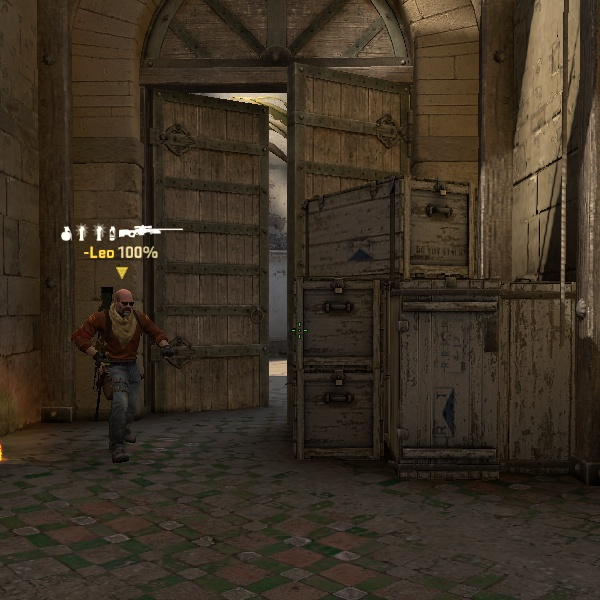t_body: (64, 281, 166, 463)
t_head: (102, 281, 140, 322)
